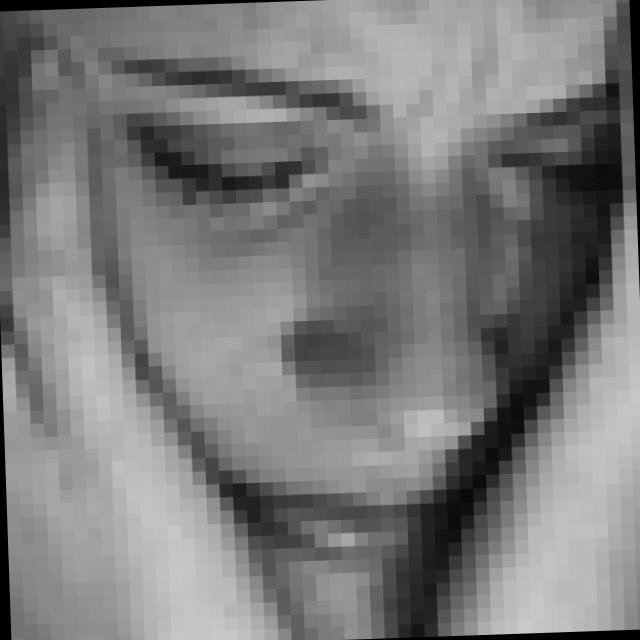sad: (110, 34, 631, 576)
